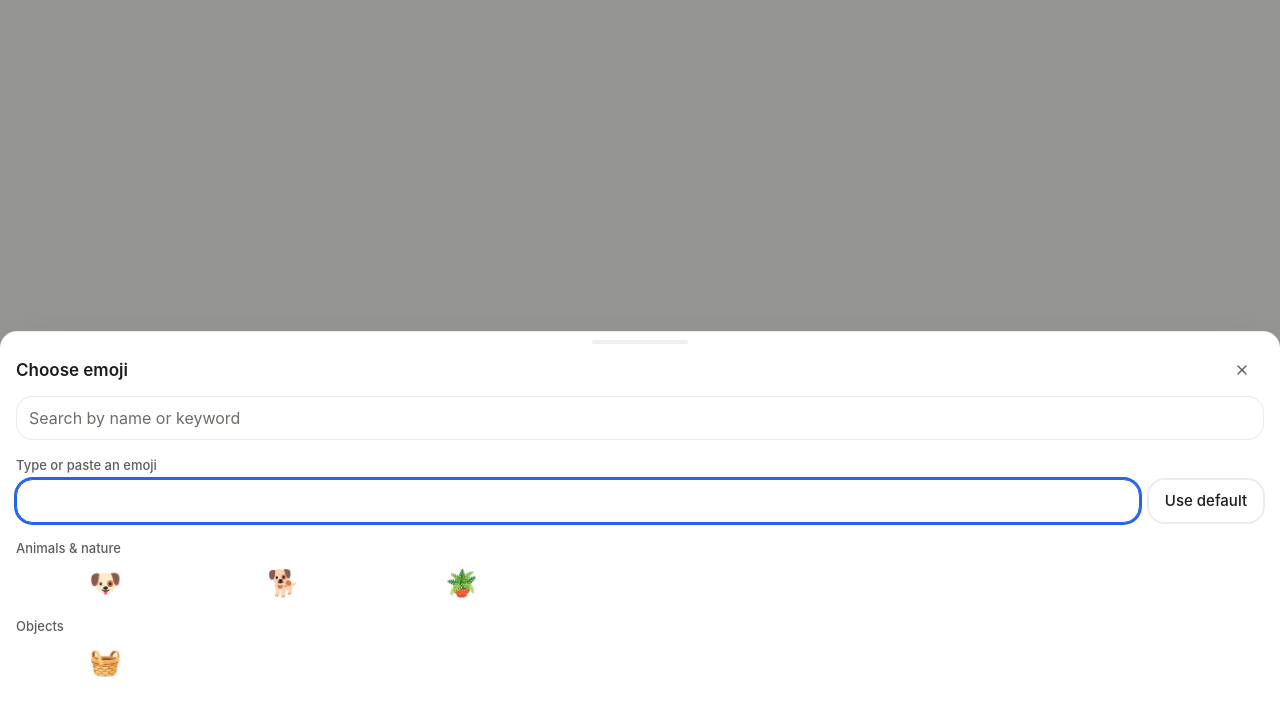
EmojiPicker › with an emoji engine › with a slow engine › waits for a ready engine before saying nothing matches
Step 1. Type "zzz" into the search field named "Search emoji" → (640, 418), box [16,396,1264,440]
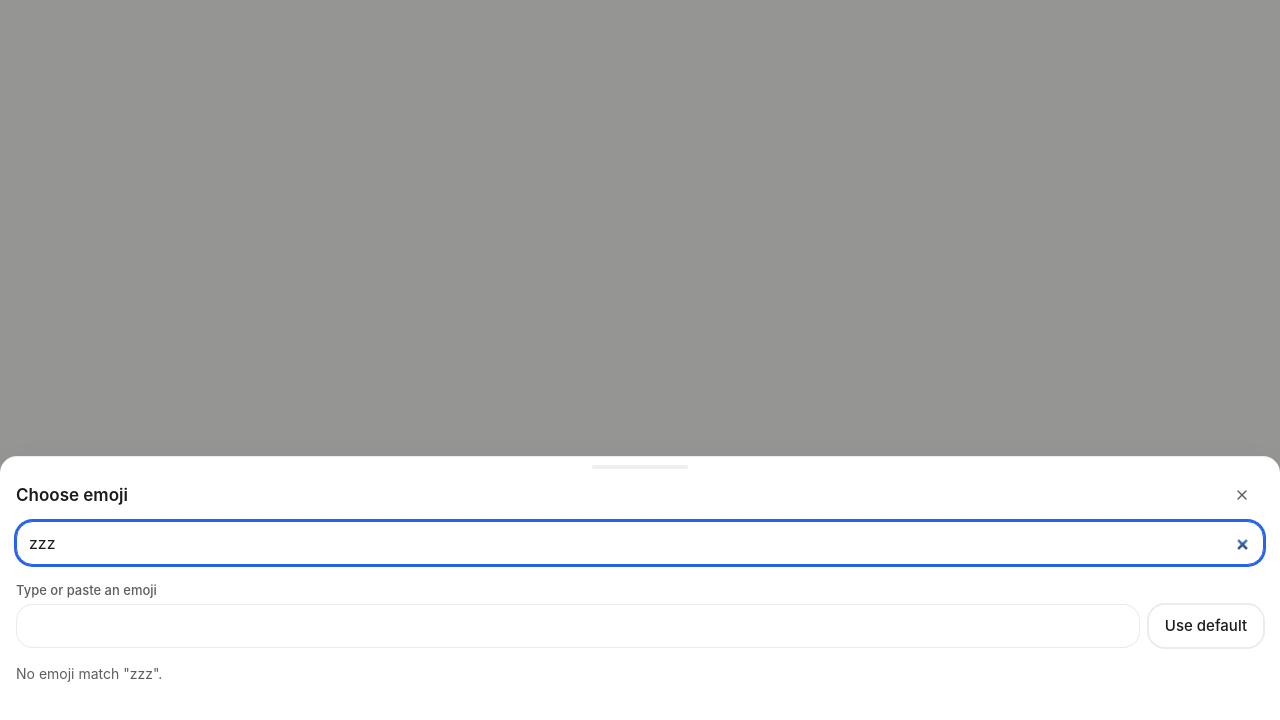
Now the text "No emoji match \"zzz\"." is shown, box [16,665,162,682]
